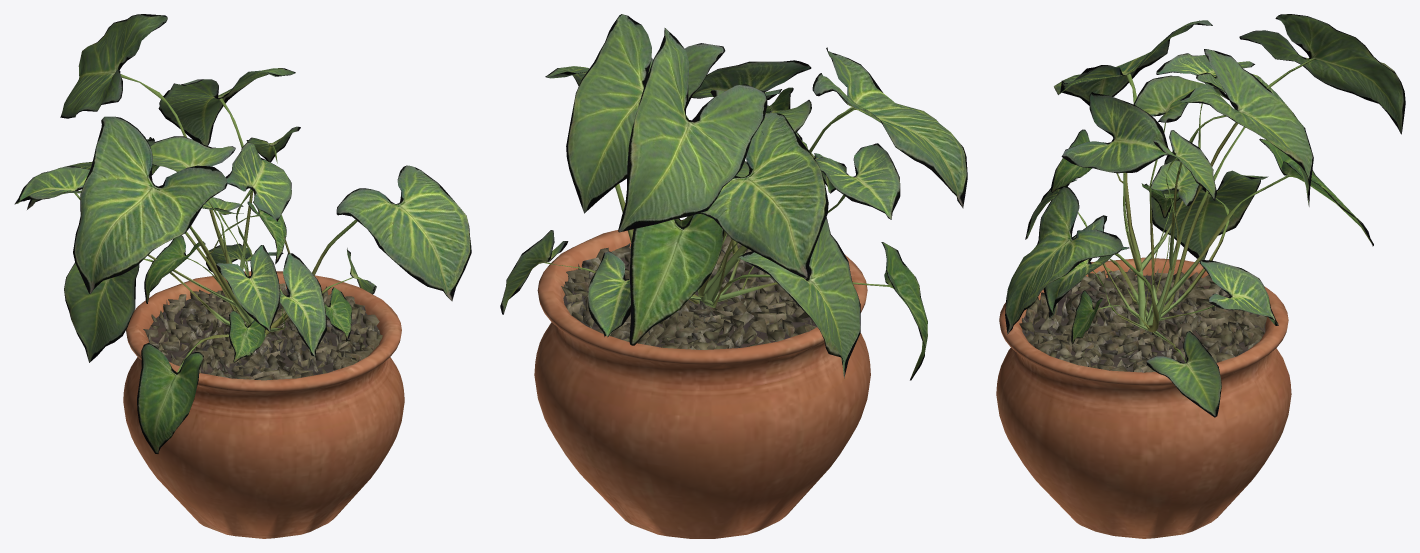
Rendered from potplant_terracotta.gltf.
3 views of the same model, side by side, from view 1: azimuth 30°, elevation 25°; view 2: azimuth 150°, elevation 25°; view 3: azimuth 270°, elevation 25° (orthographic). The views are drawn at different scales.
Parts seen in each view (by area): view 1: potted_plant_02_leaves, potted_plant_02_pot, potted_plant_02_dirt; view 2: potted_plant_02_leaves, potted_plant_02_pot, potted_plant_02_dirt; view 3: potted_plant_02_leaves, potted_plant_02_pot, potted_plant_02_dirt.
Part boxes in pixels (x1=…): potted_plant_02_leaves: x1=14, y1=14, x2=471, y2=453; potted_plant_02_pot: x1=123, y1=271, x2=404, y2=538; potted_plant_02_dirt: x1=143, y1=283, x2=382, y2=380; potted_plant_02_leaves: x1=500, y1=14, x2=967, y2=380; potted_plant_02_pot: x1=534, y1=220, x2=870, y2=538; potted_plant_02_dirt: x1=561, y1=233, x2=816, y2=349; potted_plant_02_leaves: x1=1005, y1=14, x2=1405, y2=417; potted_plant_02_pot: x1=996, y1=257, x2=1291, y2=538; potted_plant_02_dirt: x1=1019, y1=268, x2=1266, y2=372.
Bounding box in the file's own units: 0.7009 × 0.8411 × 0.6574.
Materials: 2 (2 with a texture image).
